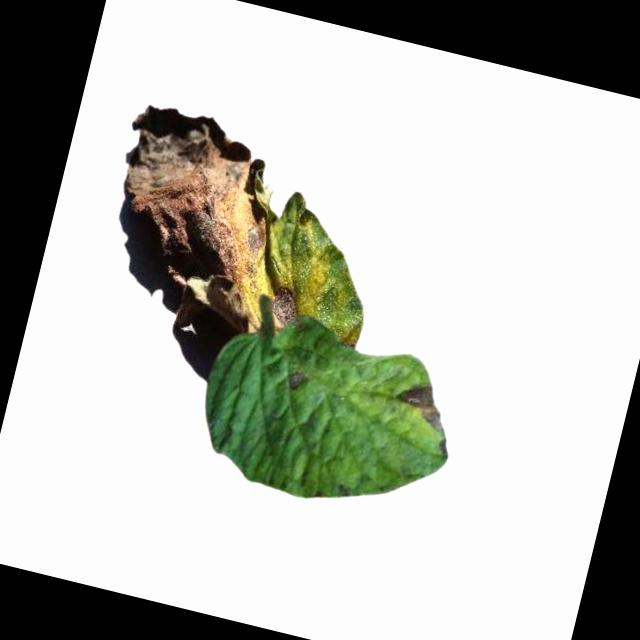Early_blight: (89, 99, 403, 357), (382, 375, 463, 455), (284, 370, 305, 394)
